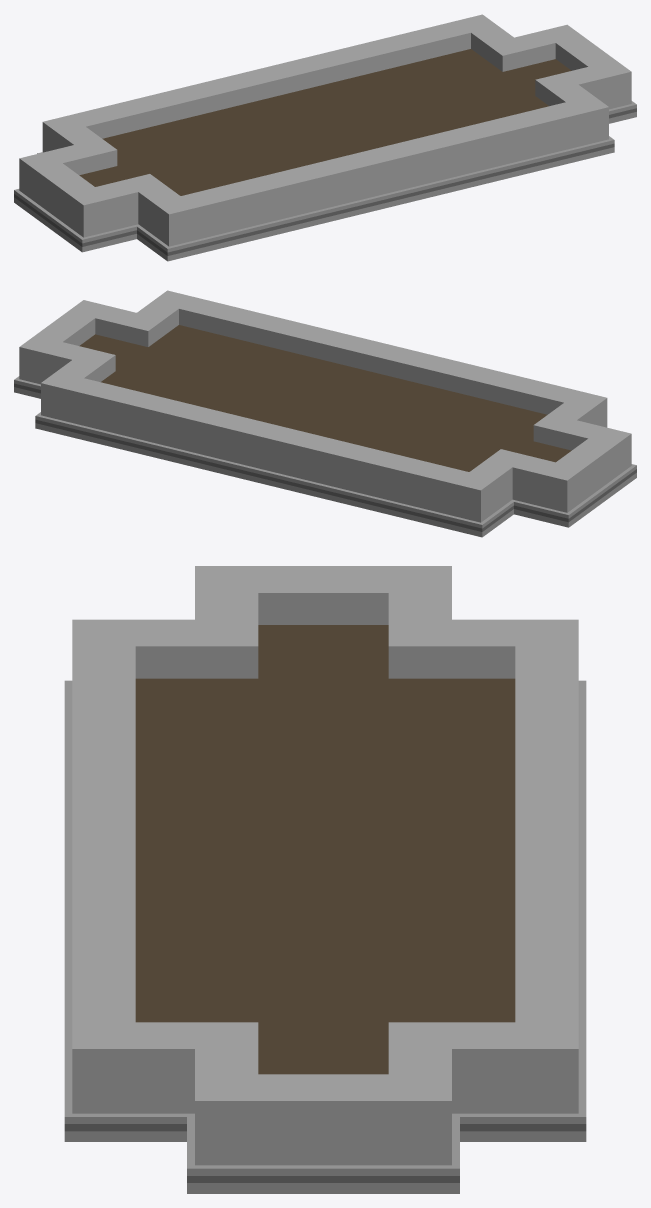
Rendered from DirtIsland.fbx.
The picture shows the model from 3 angles, top to bottom: view 1: azimuth 30°, elevation 25°; view 2: azimuth 150°, elevation 25°; view 3: azimuth 270°, elevation 25°; orthographic projection. The views are drawn at different scales.
Visible parts, largest first — view 1: Matrix; view 2: Matrix; view 3: Matrix.
Boxes of the visible parts, left/top/right/bottom form: Matrix: left=14, top=14, right=636, bottom=261; Matrix: left=14, top=290, right=636, bottom=537; Matrix: left=64, top=566, right=586, bottom=1193.
Bounding box in the file's own units: 324 × 25 × 132.
